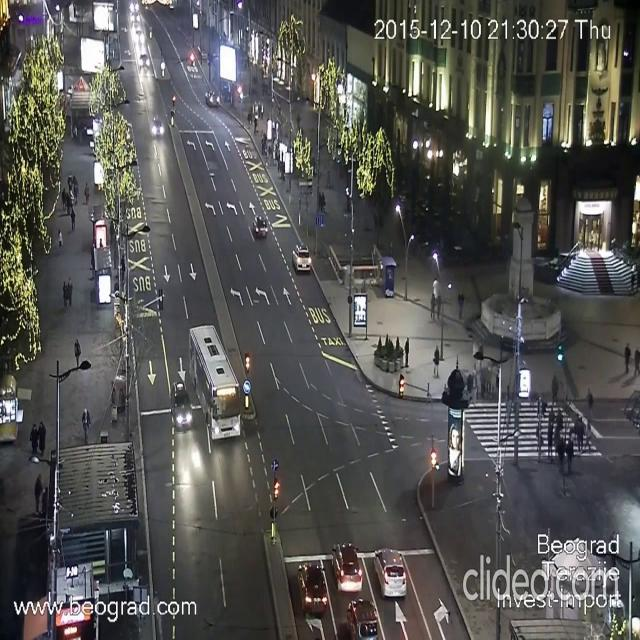bus: (189, 323, 241, 441)
car: (297, 560, 328, 617), (331, 541, 363, 593), (374, 548, 406, 598), (346, 597, 378, 639), (172, 376, 193, 428), (292, 243, 312, 273), (252, 214, 268, 239), (206, 89, 220, 110), (150, 120, 162, 136), (130, 0, 141, 15), (142, 53, 150, 73), (134, 31, 144, 45), (131, 14, 141, 26)
